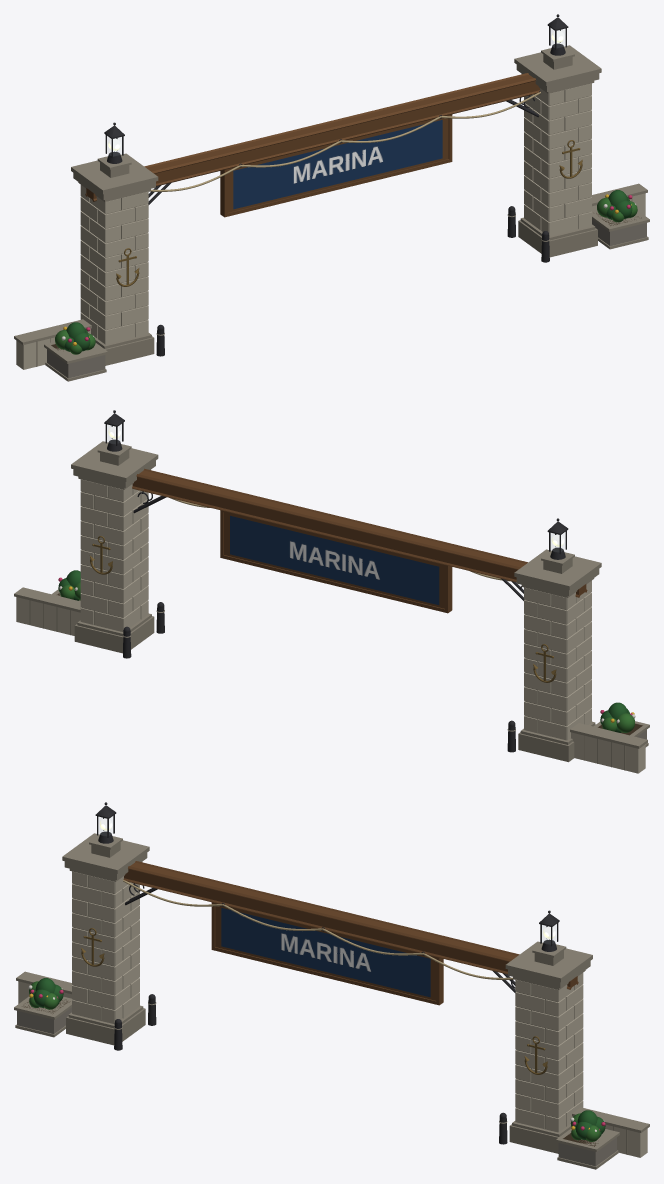
Rendered from gate.glb.
The picture shows the model from 3 angles, top to bottom: view 1: azimuth 30°, elevation 25°; view 2: azimuth 150°, elevation 25°; view 3: azimuth 330°, elevation 25°; orthographic projection.
Parts seen in each view (by area): view 1: pier_cap_m, sign_marina_m, bracket_iron_m; view 2: pier_cap_m, sign_marina_m, bracket_iron_m; view 3: pier_cap_m, sign_marina_m, bracket_iron_m.
Part boxes in pixels (x1,y1,x2,y2): pier_cap_m: [14, 45, 649, 381]; sign_marina_m: [233, 120, 442, 209]; bracket_iron_m: [104, 14, 582, 356]; pier_cap_m: [14, 441, 649, 773]; sign_marina_m: [230, 515, 439, 605]; bracket_iron_m: [89, 410, 568, 752]; pier_cap_m: [14, 833, 649, 1169]; sign_marina_m: [221, 908, 430, 997]; bracket_iron_m: [81, 802, 559, 1144].
Bounding box in the file's own units: 20.3 × 7.04 × 2.33.
Materials: 6 (1 with a texture image).
